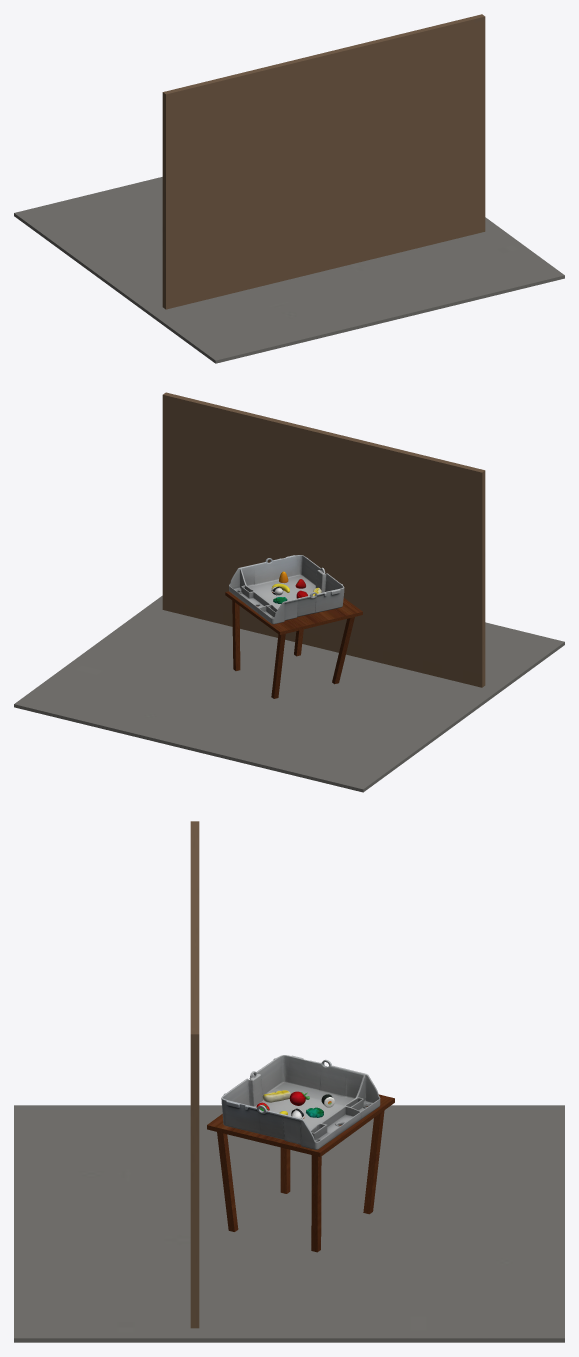
Rendered from ours.glb.
3 renders of one model, top to bottom at view 1: azimuth 30°, elevation 25°; view 2: azimuth 150°, elevation 25°; view 3: azimuth 270°, elevation 25°, orthographic. The views are drawn at different scales.
Visible parts, largest first — view 1: wall_0, floor_0; view 2: wall_0, floor_0, obj_bin_0, table_0; view 3: floor_0, obj_bin_0, table_0, wall_0.
Boxes of the visible parts, box(x1,y1,x2,y2) form: wall_0: box(162, 14, 485, 309); floor_0: box(14, 177, 564, 363); wall_0: box(162, 392, 485, 687); floor_0: box(14, 595, 564, 792); obj_bin_0: box(229, 555, 344, 624); table_0: box(225, 591, 362, 698); floor_0: box(14, 1105, 564, 1342); obj_bin_0: box(221, 1055, 380, 1149); table_0: box(207, 1094, 394, 1252); wall_0: box(190, 821, 199, 1328).
Size of the model in its own units: 3.5 by 2.09 by 3.5.
Materials: 15 (11 with a texture image).
